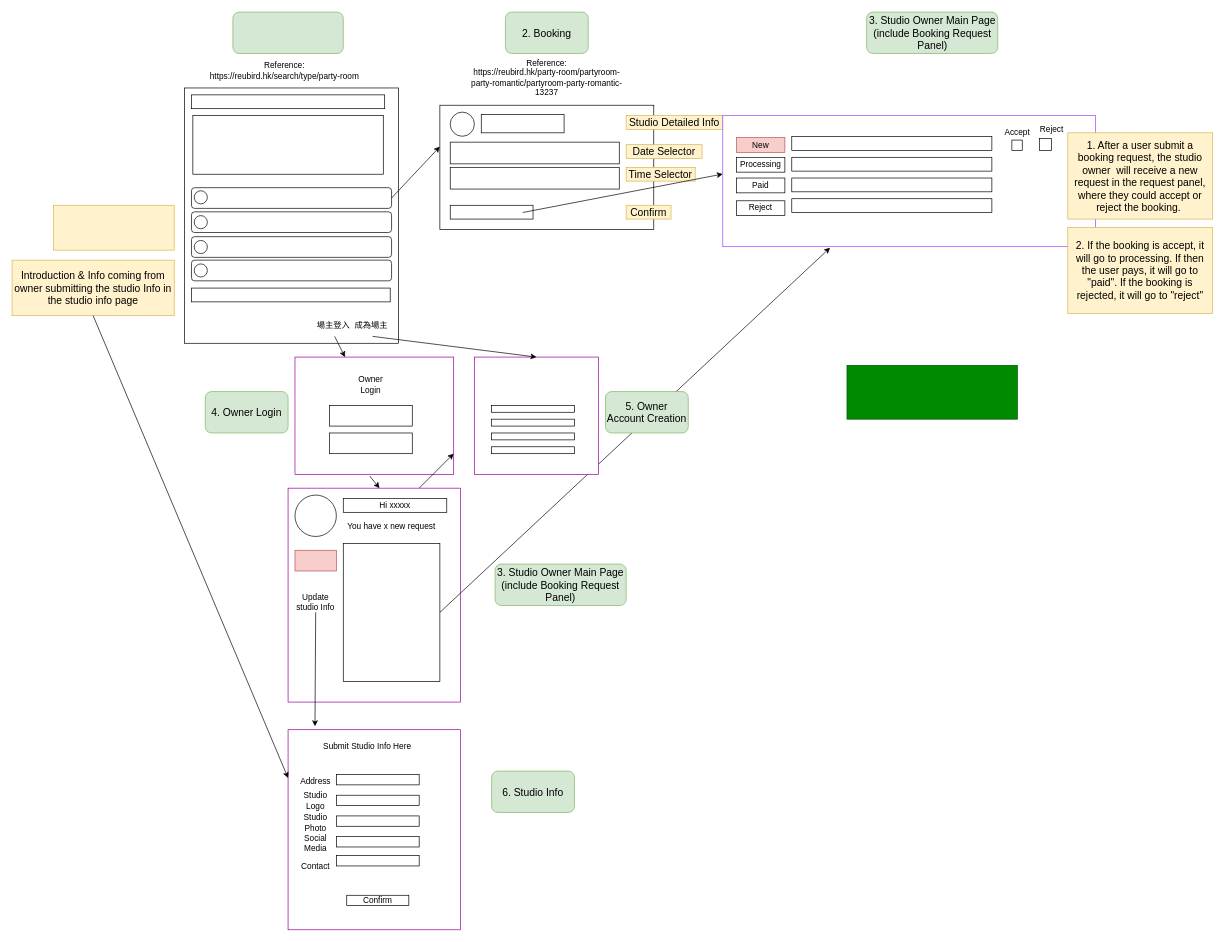
Some shapes in this 1225 by 942 pixel diagram are drawn without their labels. Here are the shapes that lost their labels. From the top down, the centre of each, then its label:
At (x=287, y=32): "1. Homepage".
At (x=113, y=227): "Yoga studio lists with introduction & image".
At (x=931, y=392): "Pending feature: - Time block - User Login for booking history".
At (x=536, y=415): "Owner Account Create".
At (x=315, y=560): "Booking Request".
